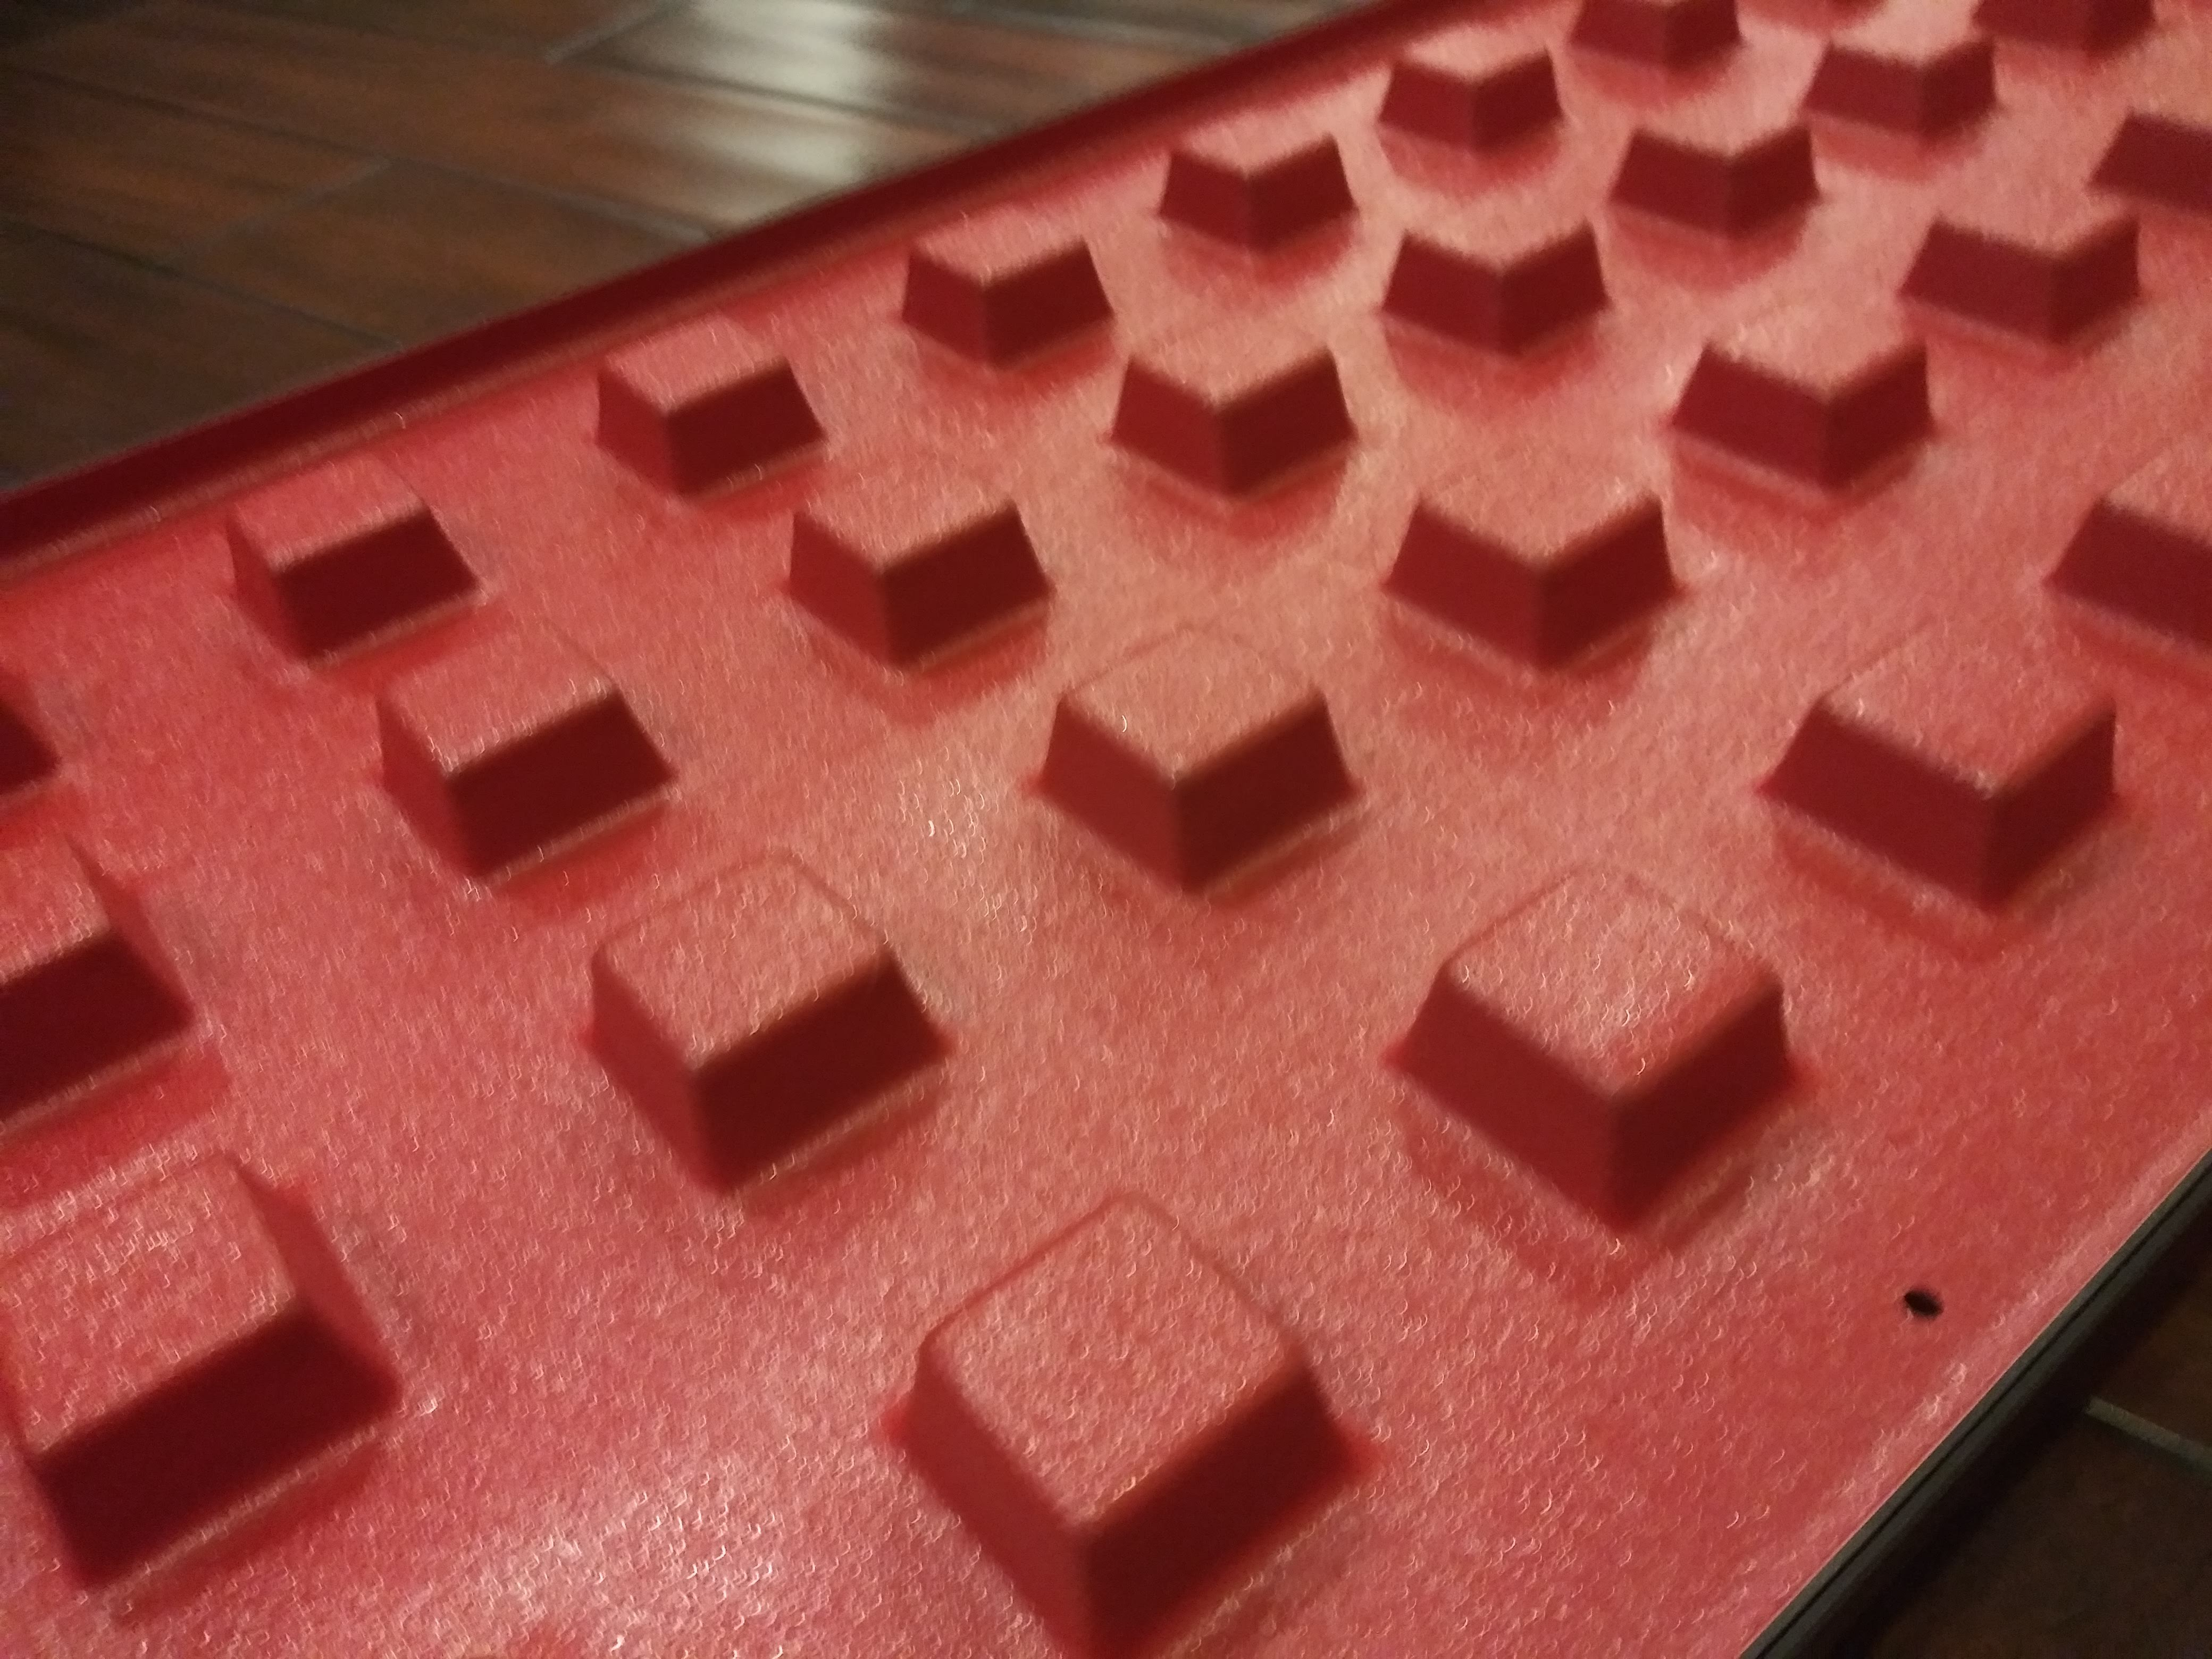red foundation: (66, 254, 2137, 1525)
